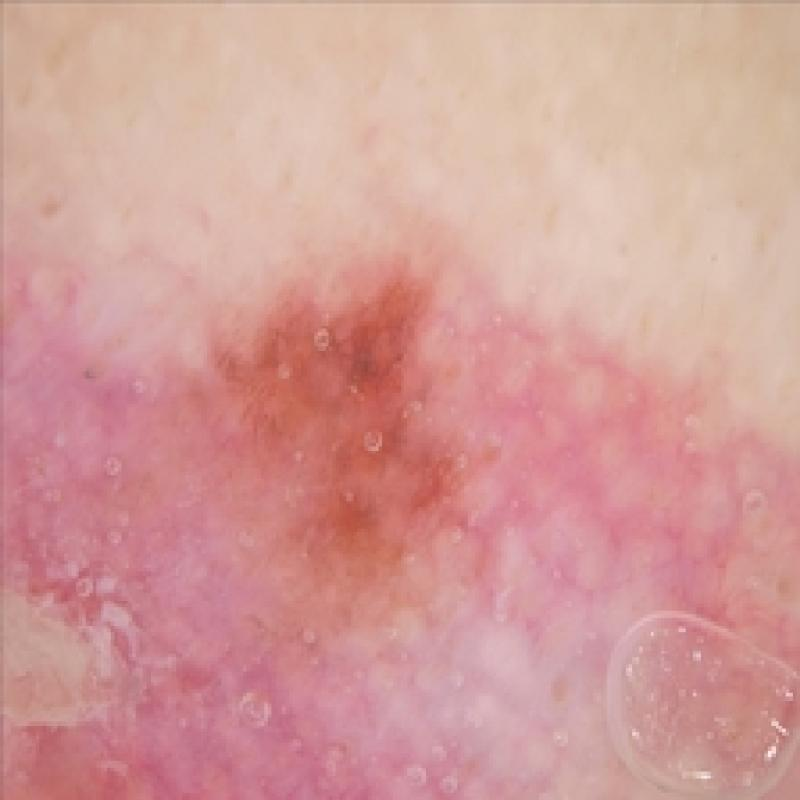benign: (8, 224, 770, 786)
